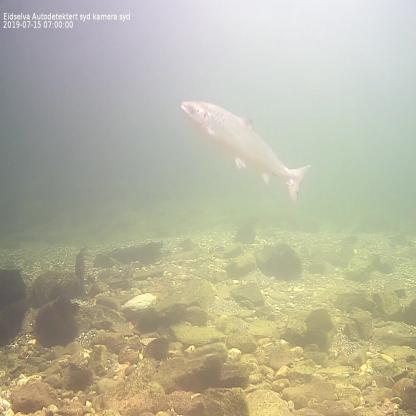salmon: (180, 97, 313, 206)
